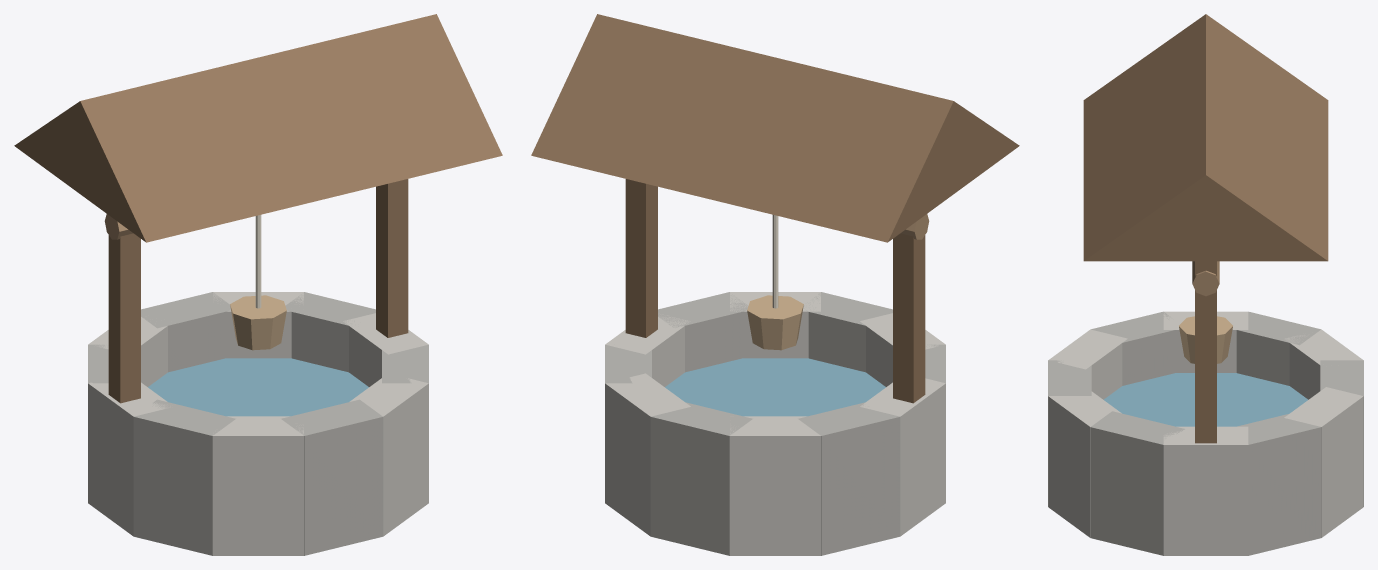
Rendered from well.glb.
3 views of the same model, side by side, from view 1: azimuth 30°, elevation 25°; view 2: azimuth 150°, elevation 25°; view 3: azimuth 270°, elevation 25° (orthographic). The views are drawn at different scales.
Visible parts, largest first — view 1: well; view 2: well; view 3: well.
Boxes of the visible parts, bbox=[...] form: well: bbox=[14, 14, 502, 555]; well: bbox=[531, 14, 1019, 555]; well: bbox=[1048, 14, 1363, 555].
Bounding box in the file's own units: 2.8 × 3.2 × 2.32.
